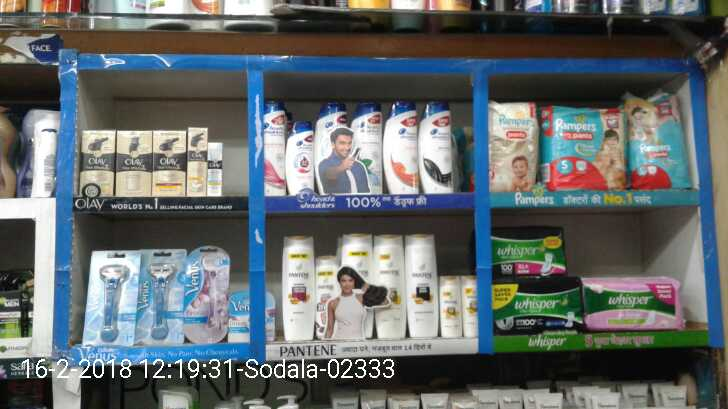venus: (140, 247, 186, 342), (95, 247, 140, 342), (187, 247, 229, 337), (229, 289, 278, 337)
